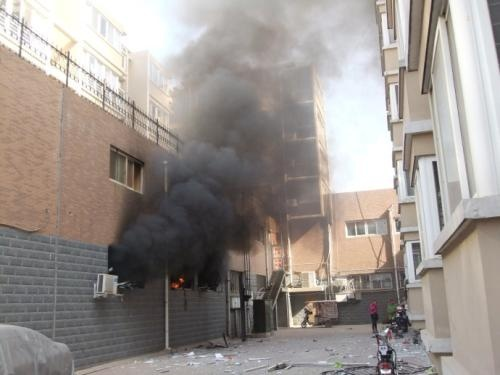fire: (171, 270, 199, 290)
